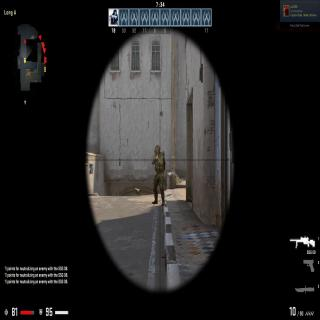CT-Body: (151, 140, 166, 198)
CT-Head: (154, 145, 160, 155)
